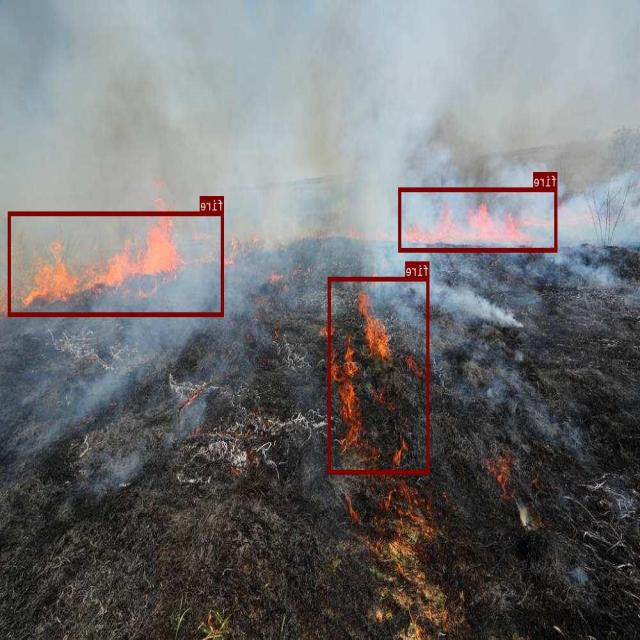fire: (9, 212, 224, 316), (328, 276, 429, 473), (399, 187, 557, 251)
